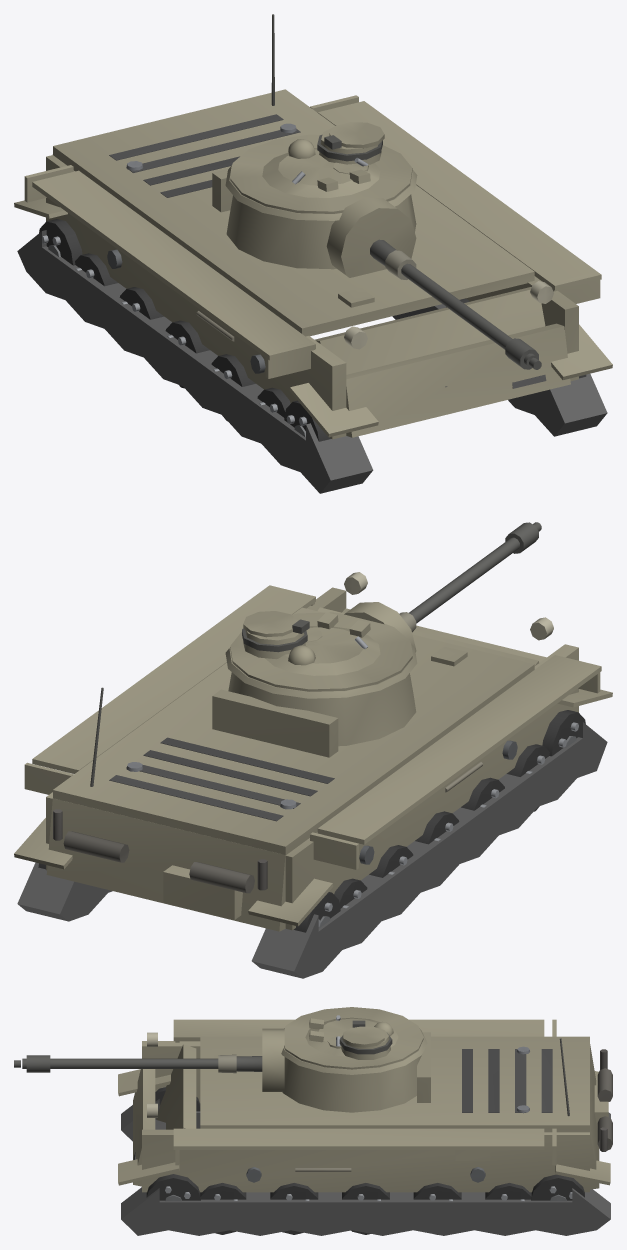
The model's file is type74.glb.
The picture shows the model from 3 angles, top to bottom: view 1: azimuth 30°, elevation 25°; view 2: azimuth 150°, elevation 25°; view 3: azimuth 270°, elevation 25°; orthographic projection. The views are drawn at different scales.
Parts seen in each view (by area): view 1: hullTop, hullSide, tracks, lowerPlate, turretRoof, glacis, turretFront, mantlet, barrel, turretSide, wheel6, wheel5 (+5 smaller); view 2: hullTop, hullSide, tracks, hullRear, turretRoof, turretFront, turretRear, barrel, turretSide, glacis, wheel5, mantlet (+6 smaller); view 3: hullSide, hullTop, tracks, turretRoof, turretFront, barrel, hullRear, glacis, lowerPlate, mantlet, wheel12, wheel13 (+7 smaller).
Part boxes in pixels (left/top/right/bottom): hullTop: left=53, top=89, right=534, bottom=336; hullSide: left=24, top=95, right=601, bottom=439; tracks: left=14, top=198, right=612, bottom=493; lowerPlate: left=346, top=323, right=570, bottom=437; turretRoof: left=230, top=122, right=412, bottom=213; glacis: left=315, top=287, right=546, bottom=388; turretFront: left=226, top=194, right=416, bottom=269; mantlet: left=326, top=197, right=416, bottom=277; barrel: left=370, top=239, right=541, bottom=369; turretSide: left=225, top=165, right=417, bottom=220; wheel6: left=39, top=219, right=82, bottom=265; wheel5: left=284, top=400, right=330, bottom=441; hullTop: left=53, top=607, right=534, bottom=854; hullSide: left=24, top=572, right=601, bottom=930; tracks: left=14, top=689, right=612, bottom=978; hullRear: left=46, top=687, right=286, bottom=931; turretRoof: left=230, top=611, right=412, bottom=691; turretFront: left=228, top=672, right=416, bottom=746; turretRear: left=212, top=689, right=338, bottom=757; barrel: left=399, top=522, right=541, bottom=632; turretSide: left=225, top=643, right=417, bottom=698; glacis: left=317, top=607, right=538, bottom=666; wheel5: left=542, top=710, right=585, bottom=756; mantlet: left=344, top=602, right=416, bottom=652; hullSide: left=142, top=1019, right=589, bottom=1192; hullTop: left=200, top=1036, right=589, bottom=1132; tracks: left=118, top=1069, right=610, bottom=1235; turretRoof: left=284, top=1007, right=423, bottom=1069; turretFront: left=282, top=1055, right=421, bottom=1112; barrel: left=14, top=1054, right=262, bottom=1073; hullRear: left=559, top=1038, right=612, bottom=1189; glacis: left=133, top=1044, right=218, bottom=1159; lowerPlate: left=133, top=1069, right=155, bottom=1186; mantlet: left=262, top=1028, right=284, bottom=1091; wheel12: left=146, top=1174, right=200, bottom=1201; wheel13: left=531, top=1174, right=584, bottom=1201.
Bounding box in the file's own units: 4.28 × 2.82 × 8.56.
